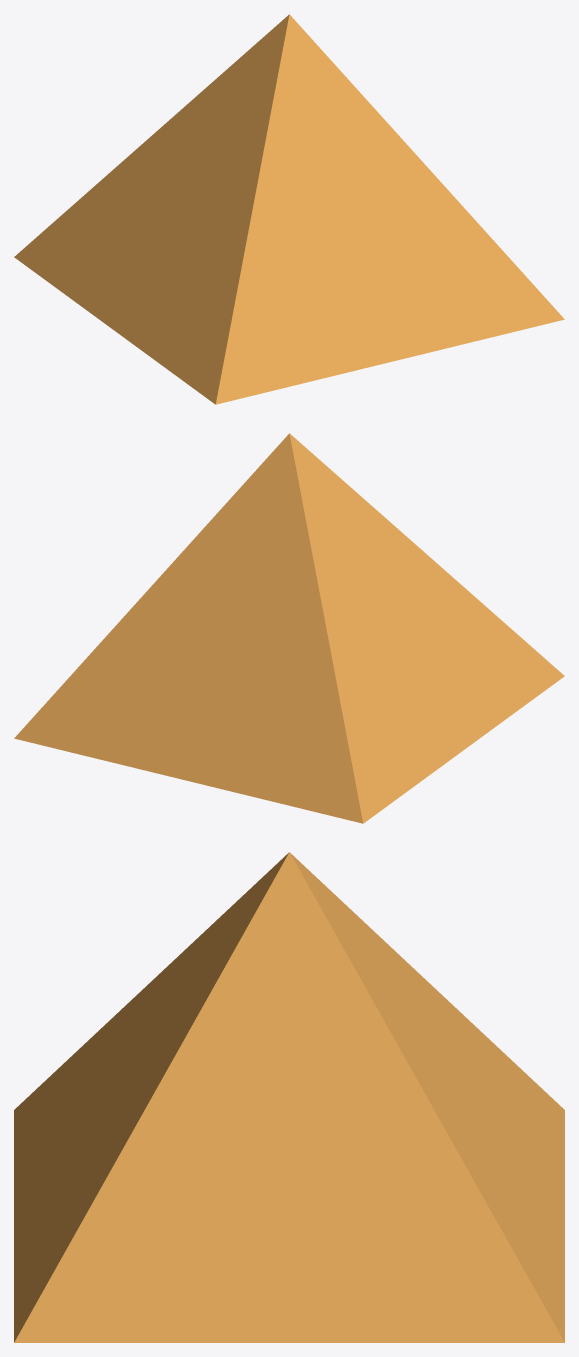
3 views of the same model, one above another, from view 1: azimuth 30°, elevation 25°; view 2: azimuth 150°, elevation 25°; view 3: azimuth 270°, elevation 25° (orthographic). The views are drawn at different scales.
Visible parts, largest first — view 1: Pyramid; view 2: Pyramid; view 3: Pyramid.
Boxes of the visible parts, x1,y1,x2,y2 form: Pyramid: [14, 14, 564, 404]; Pyramid: [14, 433, 564, 823]; Pyramid: [14, 852, 564, 1342].
Bounding box in the file's own units: 2 × 1.5 × 2.
